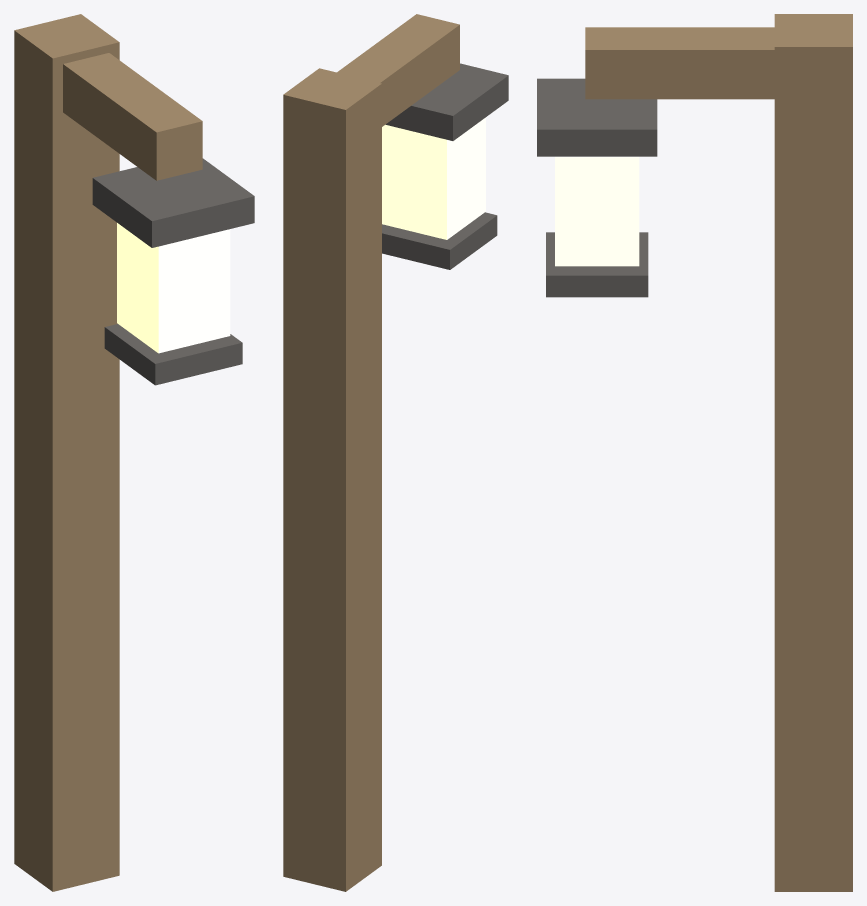
Rendered from lantern.glb.
3 views of the same model, side by side, from view 1: azimuth 30°, elevation 25°; view 2: azimuth 150°, elevation 25°; view 3: azimuth 270°, elevation 25° (orthographic). The views are drawn at different scales.
Visible parts, largest first — view 1: post, glass, arm, cap, base; view 2: post, glass, arm, cap, base; view 3: post, arm, glass, cap, base.
Boxes of the visible parts, left/top/right/bottom form: post: left=14, top=14, right=119, bottom=891; glass: left=117, top=223, right=230, bottom=353; arm: left=63, top=53, right=202, bottom=180; cap: left=92, top=158, right=254, bottom=247; base: left=104, top=324, right=242, bottom=385; post: left=283, top=68, right=381, bottom=891; glass: left=382, top=117, right=485, bottom=239; arm: left=337, top=14, right=459, bottom=126; cap: left=385, top=63, right=508, bottom=140; base: left=382, top=212, right=497, bottom=269; post: left=774, top=14, right=852, bottom=891; arm: left=585, top=27, right=774, bottom=99; glass: left=555, top=156, right=639, bottom=266; cap: left=537, top=78, right=657, bottom=156; base: left=546, top=232, right=648, bottom=297.
Bounding box in the file's own units: 0.2 × 1.55 × 0.525.
